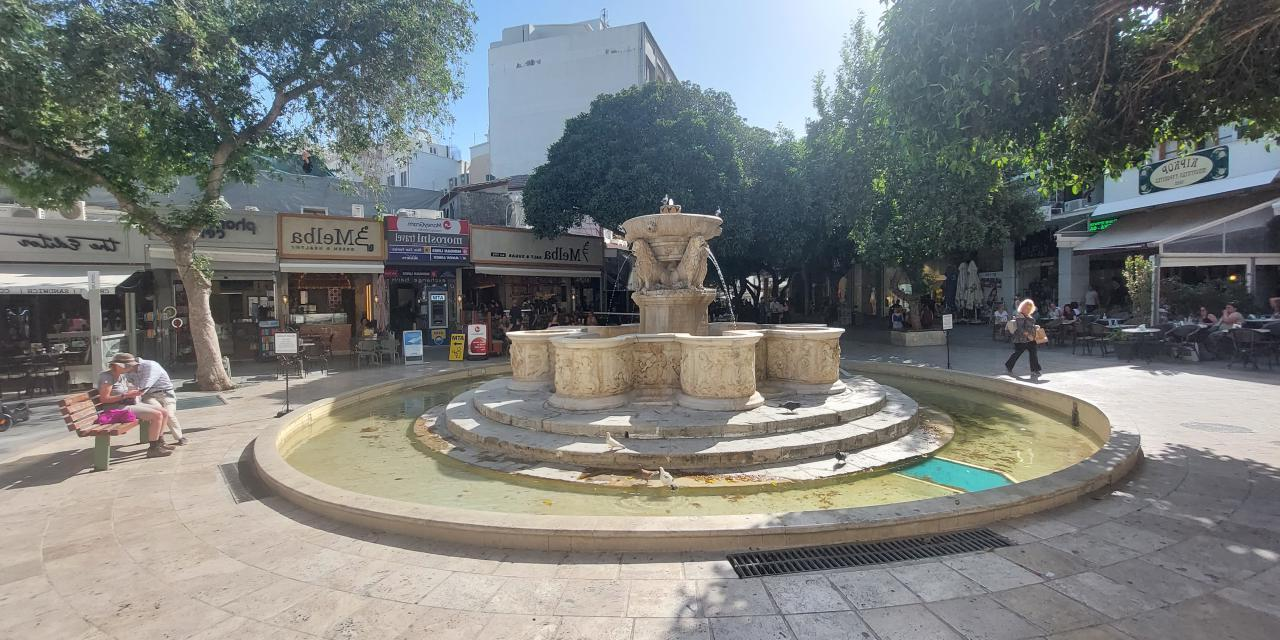Liontaria: (502, 212, 845, 411)
